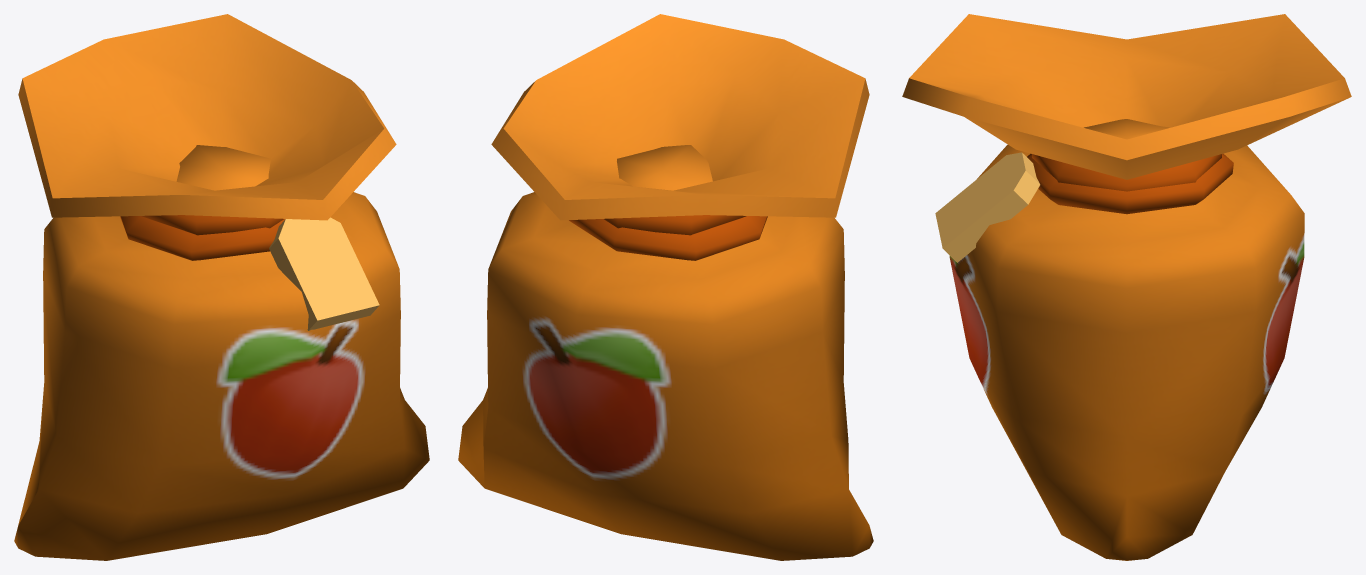
Rendered from Seed_Sack_Apple_01.fbx.
The picture shows the model from 3 angles, left to right: view 1: azimuth 30°, elevation 25°; view 2: azimuth 150°, elevation 25°; view 3: azimuth 270°, elevation 25°; orthographic projection.
Visible parts, largest first — view 1: Seed_Sack_Apple_01; view 2: Seed_Sack_Apple_01; view 3: Seed_Sack_Apple_01.
Boxes of the visible parts, <box> form: Seed_Sack_Apple_01: <box>14,14,429,560</box>; Seed_Sack_Apple_01: <box>458,14,873,560</box>; Seed_Sack_Apple_01: <box>902,14,1351,560</box>.
Bounding box in the file's own units: 108 × 110 × 104.
